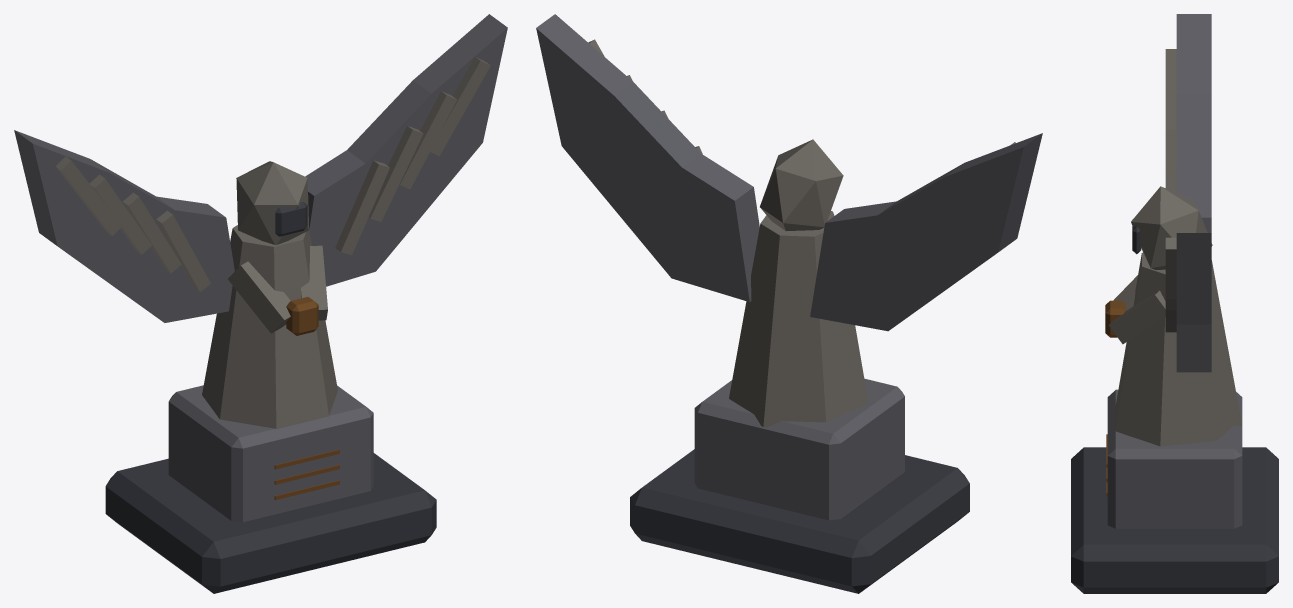
The model's file is Winged_Memorial.glb.
3 renders of one model, left to right at view 1: azimuth 30°, elevation 25°; view 2: azimuth 150°, elevation 25°; view 3: azimuth 270°, elevation 25°, orthographic. The views are drawn at different scales.
Visible parts, largest first — view 1: Winged_Memorial; view 2: Winged_Memorial; view 3: Winged_Memorial.
Part boxes in pixels (x1,y1,x2,y2): Winged_Memorial: (14,14,507,593); Winged_Memorial: (536,14,1042,593); Winged_Memorial: (1071,14,1278,593).
Size of the model in its own units: 3.24 by 2.91 by 1.3.
